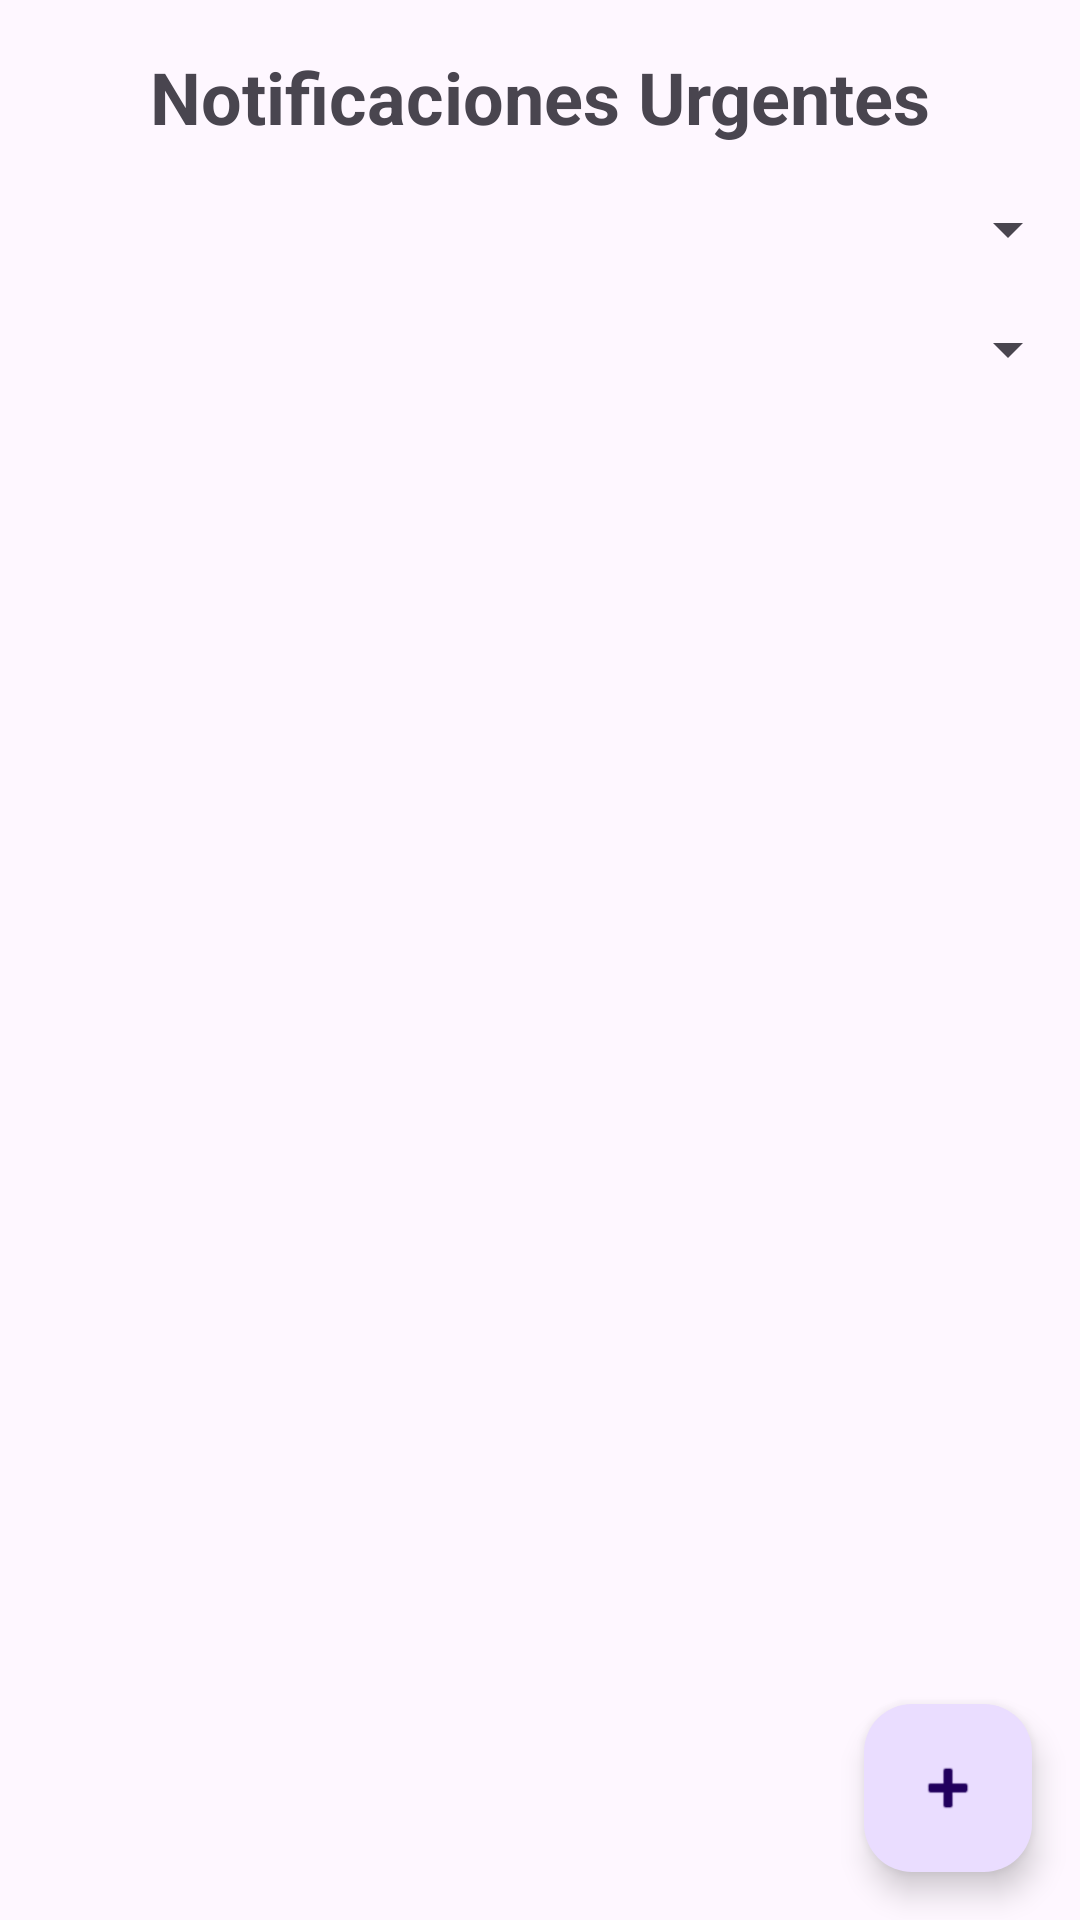

Icons on this 1080*1920 Android screen, each with its box as bbox=[x1, y1, x2, y2]:
Agregar Notificacion: bbox=[864, 1704, 1032, 1872]
